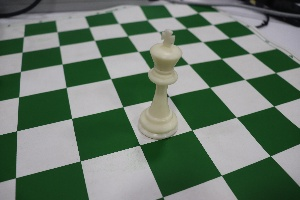white_king: (140, 15, 184, 143)
